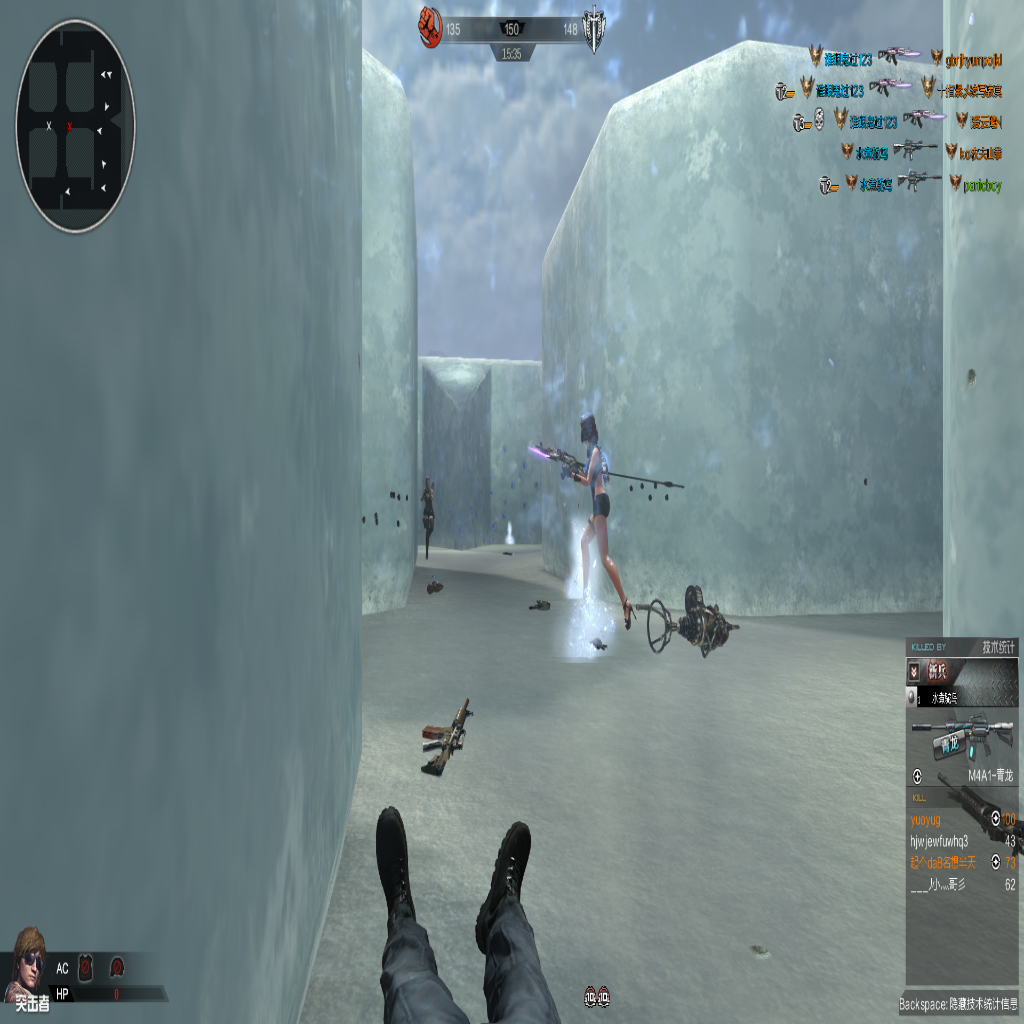ct: (567, 409, 631, 638), (421, 475, 435, 560)
